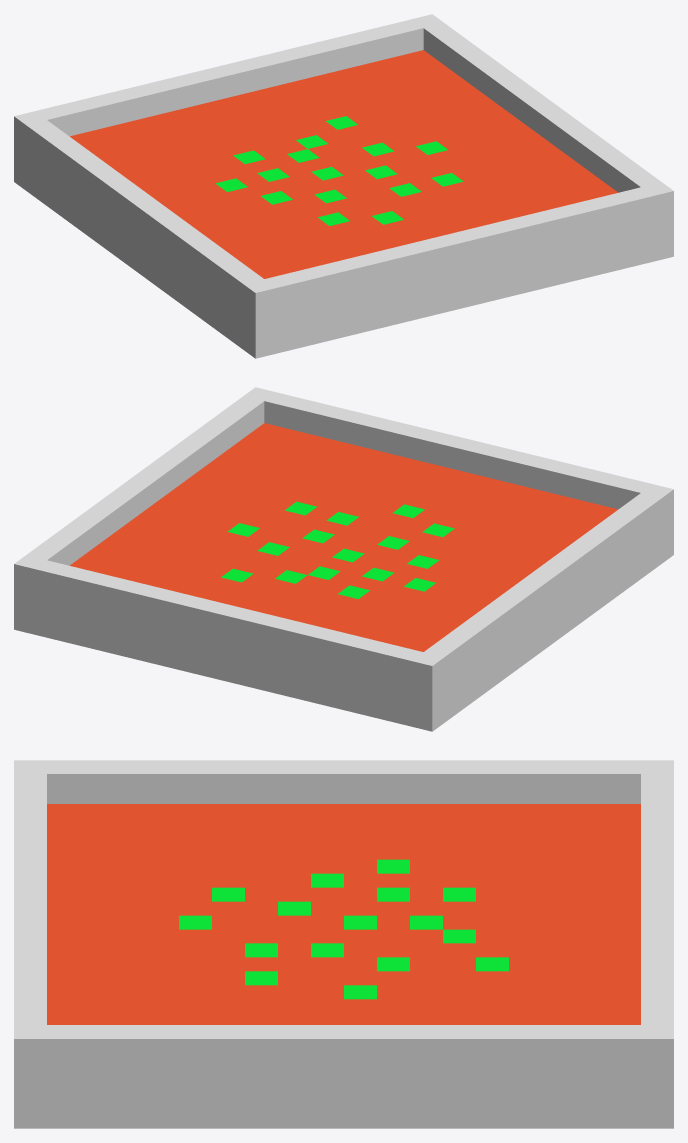
Rendered from Gazpacho.obj.
3 views of the same model, one above another, from view 1: azimuth 30°, elevation 25°; view 2: azimuth 150°, elevation 25°; view 3: azimuth 270°, elevation 25° (orthographic). The views are drawn at different scales.
Bounding box in the file's own units: 2 × 0.4 × 2.
